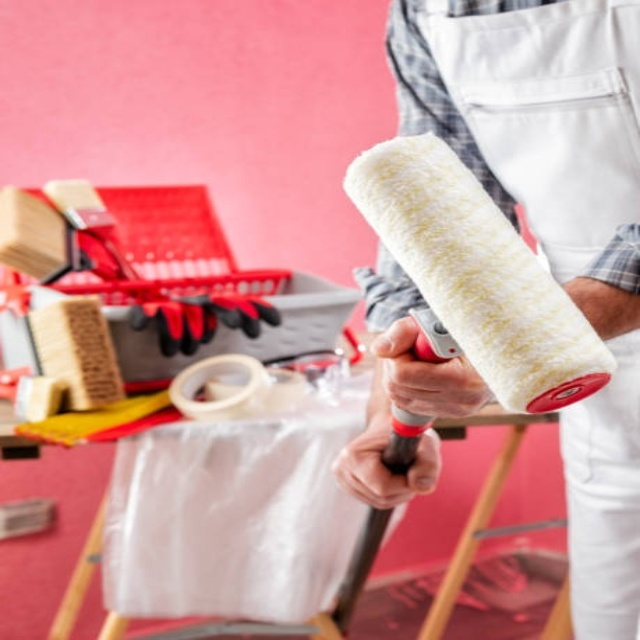Sin_guantes: (371, 313, 500, 422), (330, 416, 442, 509)
